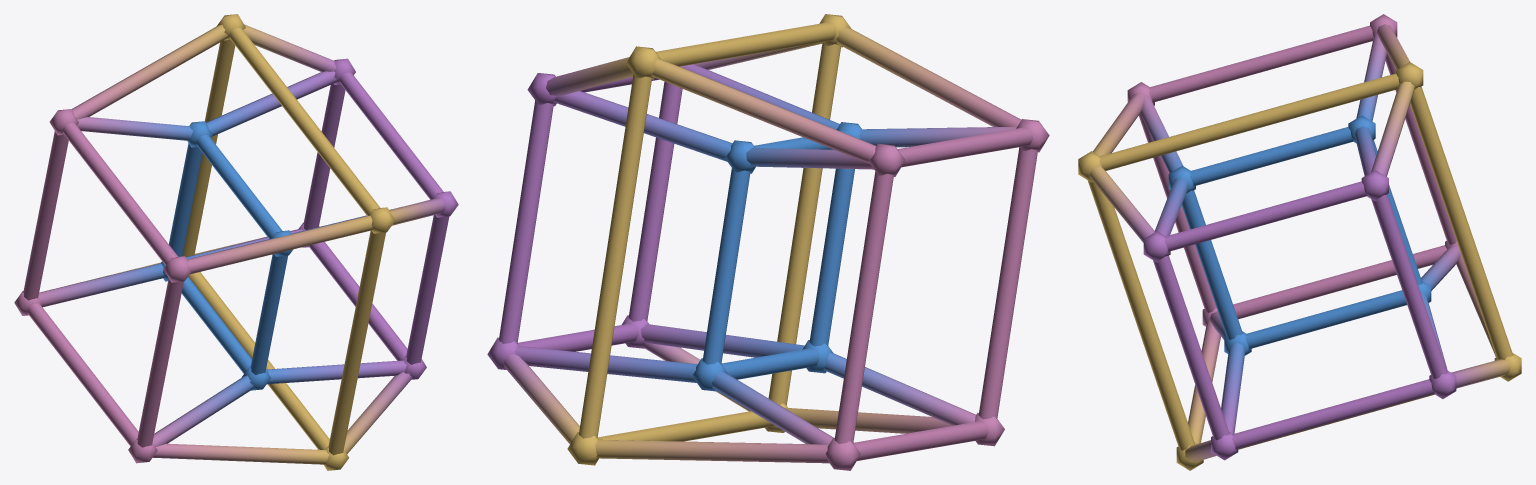
The model's file is example.gltf.
The picture shows the model from 3 angles, left to right: view 1: azimuth 30°, elevation 25°; view 2: azimuth 150°, elevation 25°; view 3: azimuth 270°, elevation 25°; orthographic projection. The views are drawn at different scales.
Parts seen in each view (by area): view 1: tesseract; view 2: tesseract; view 3: tesseract.
Boxes of the visible parts, bbox=[...] form: tesseract: bbox=[14, 14, 458, 470]; tesseract: bbox=[487, 14, 1049, 470]; tesseract: bbox=[1078, 14, 1521, 470].
Size of the model in its own units: 3.01 by 3.69 by 3.69.
